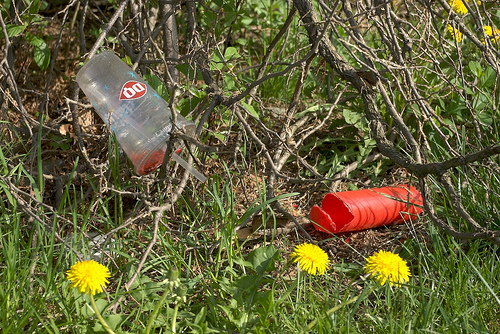litter: (76, 48, 198, 175), (308, 183, 423, 230)
